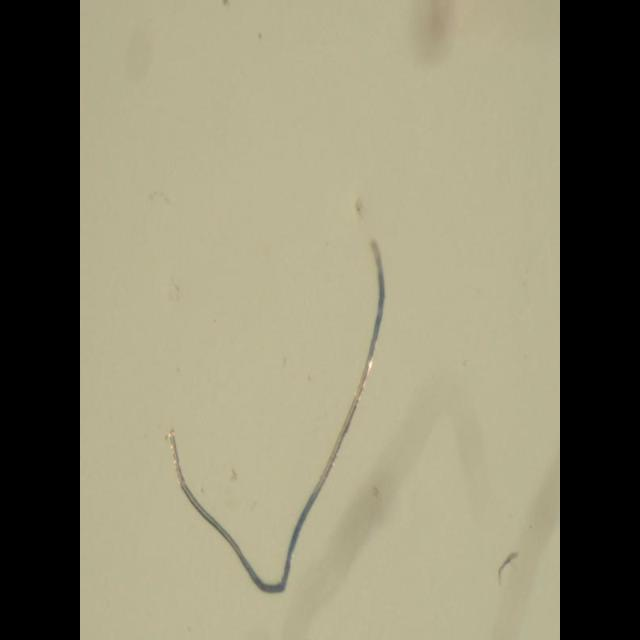Fibre: (166, 239, 387, 597)
